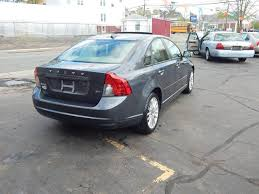car: (31, 31, 195, 130), (197, 29, 254, 62)
